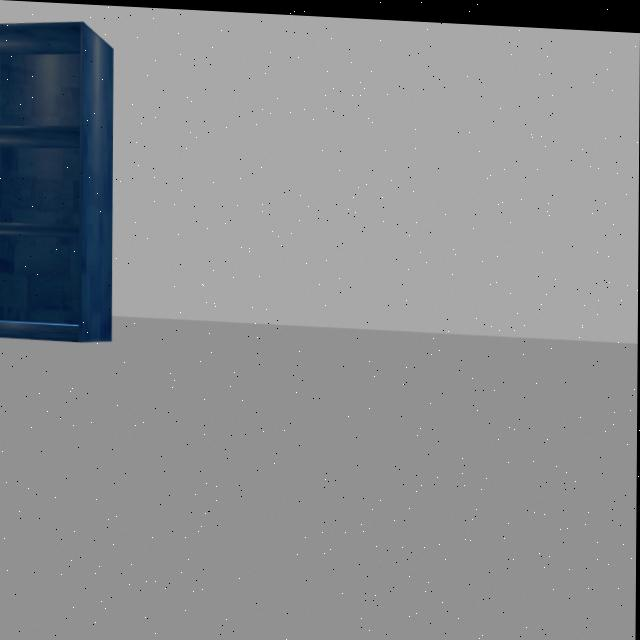shelf: (0, 2, 118, 355)
